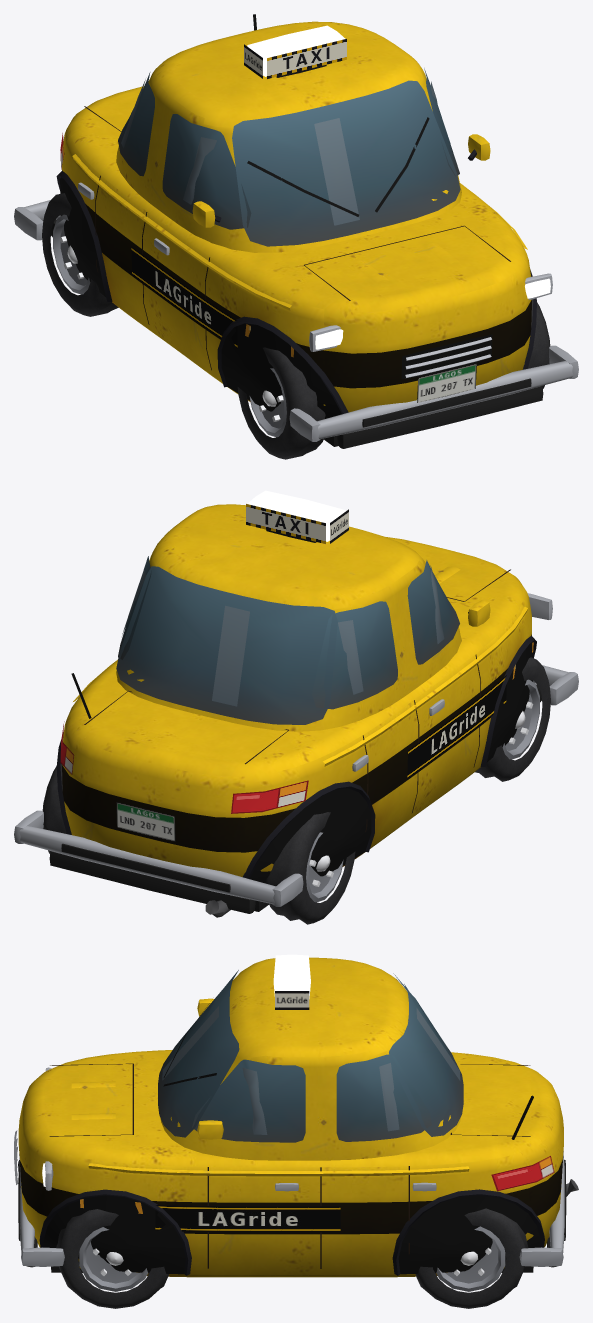
The model's file is veh_taxi.glb.
3 renders of one model, top to bottom at view 1: azimuth 30°, elevation 25°; view 2: azimuth 150°, elevation 25°; view 3: azimuth 270°, elevation 25°, orthographic. The views are drawn at different scales.
Visible parts, largest first — view 1: veh_taxi_body, wheel_FR, wheel_RR, wheel_FL; view 2: veh_taxi_body, wheel_RR, wheel_FR, wheel_RL; view 3: veh_taxi_body, wheel_RL, wheel_FL.
Boxes of the visible parts, x1,y1,x2,y2 form: veh_taxi_body: [14, 14, 578, 448]; wheel_FR: [237, 347, 325, 459]; wheel_RR: [42, 193, 118, 316]; wheel_FL: [528, 299, 550, 388]; veh_taxi_body: [14, 490, 578, 917]; wheel_RR: [266, 812, 355, 924]; wheel_FR: [475, 657, 550, 781]; wheel_RL: [42, 763, 66, 853]; veh_taxi_body: [14, 954, 578, 1277]; wheel_RL: [415, 1208, 528, 1308]; wheel_FL: [56, 1209, 168, 1308].
Size of the model in its own units: 0.6615 by 0.6916 by 1.24.
8 materials, 3 textured.
